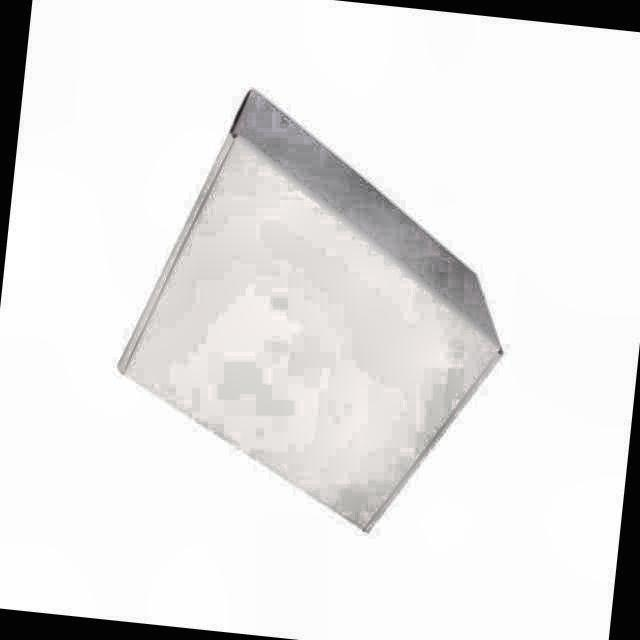cardboard: (118, 90, 504, 533)
